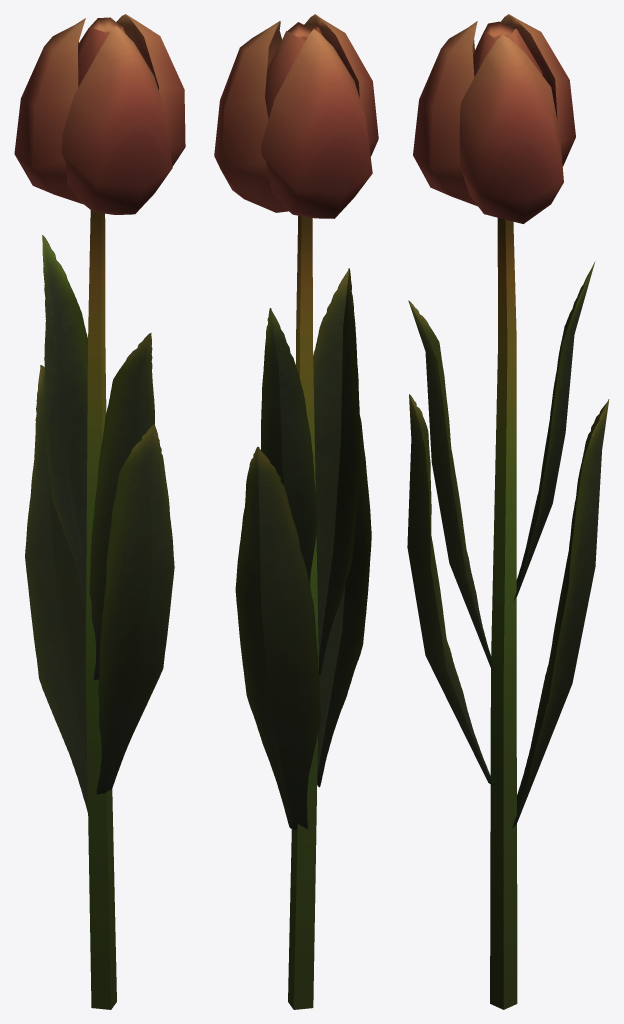
Rendered from Flower_A03.fbx.
3 renders of one model, left to right at view 1: azimuth 30°, elevation 25°; view 2: azimuth 150°, elevation 25°; view 3: azimuth 270°, elevation 25°, orthographic.
Parts seen in each view (by area): view 1: Flower_A03; view 2: Flower_A03; view 3: Flower_A03.
Boxes of the visible parts, x1,y1,x2,y2 form: Flower_A03: [14, 14, 185, 1009]; Flower_A03: [214, 14, 378, 1009]; Flower_A03: [407, 14, 609, 1009].
Size of the model in its own units: 5.97 by 38.26 by 7.15.
